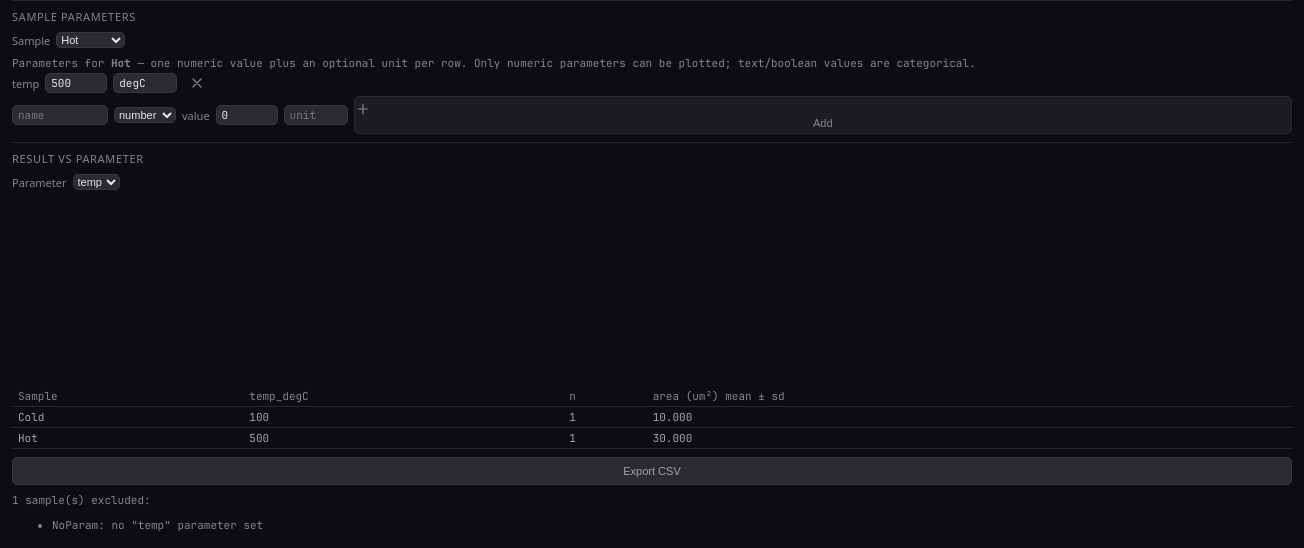
Test: ProjectComparePanel › switches the embedded editor when a different sample is picked
Select "Cold" in the dropdown named "Sample to edit": (91,40) top-left (56, 32), bottom-right (125, 48)
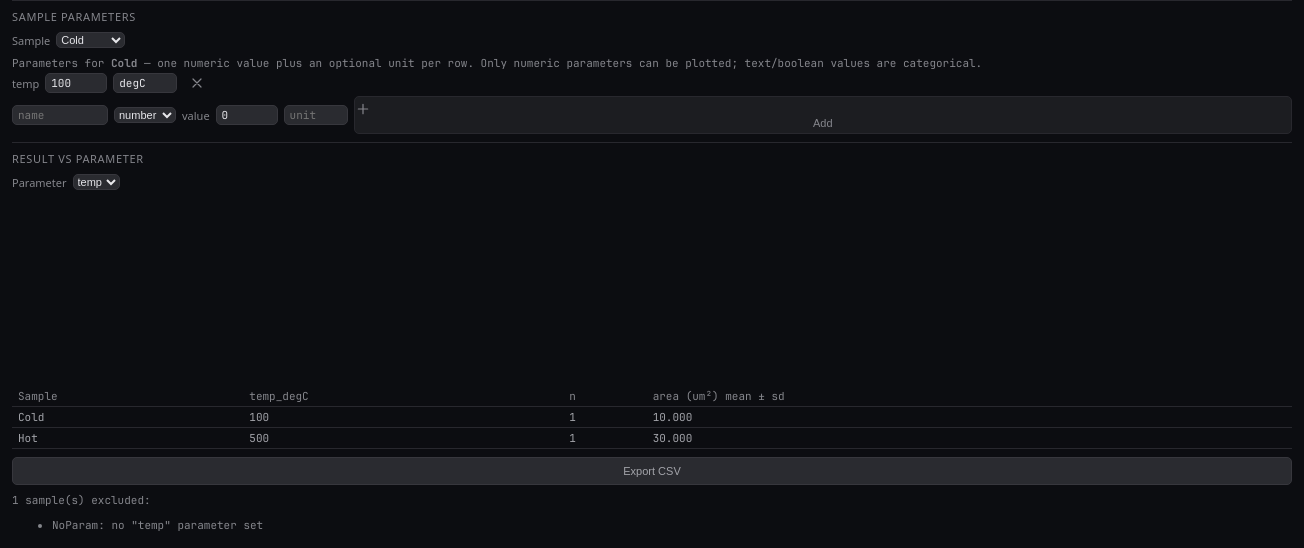
Result: the element with test id "sample-params-editor" shows "Cold" at top-left (111, 56), bottom-right (137, 70)
